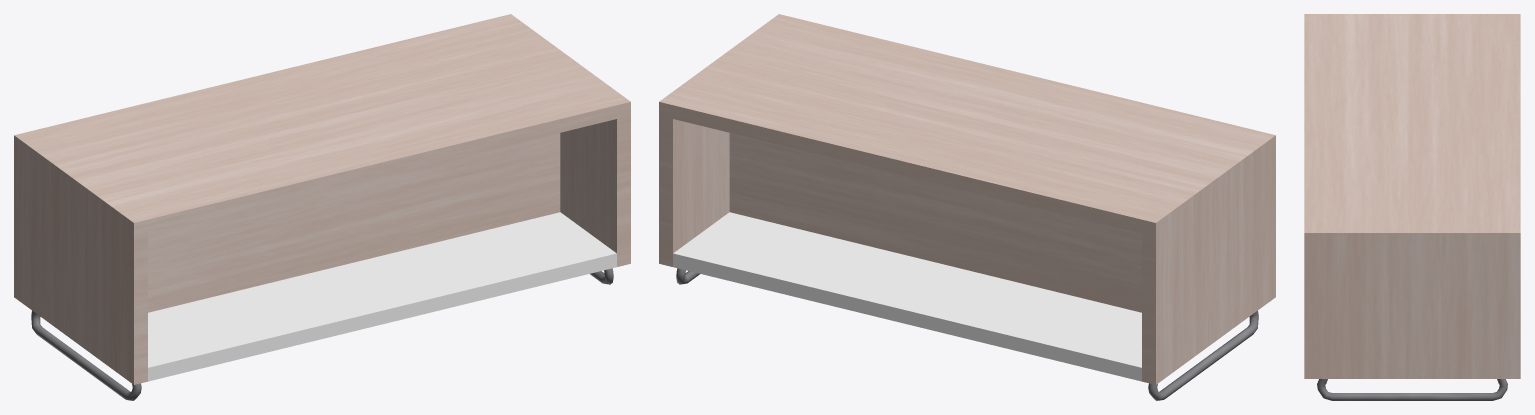
File: square_coffee_table.glb
3 views of the same model, side by side, from view 1: azimuth 30°, elevation 25°; view 2: azimuth 150°, elevation 25°; view 3: azimuth 270°, elevation 25° (orthographic). The views are drawn at different scales.
Parts seen in each view (by area): view 1: squareCoffeeTable; view 2: squareCoffeeTable; view 3: squareCoffeeTable.
Boxes of the visible parts, <box> form: squareCoffeeTable: <box>14,14,630,400</box>; squareCoffeeTable: <box>659,14,1275,400</box>; squareCoffeeTable: <box>1304,14,1520,400</box>.
Bounding box in the file's own units: 1.22 × 0.4483 × 0.51.
Materials: 1 (1 with a texture image).
